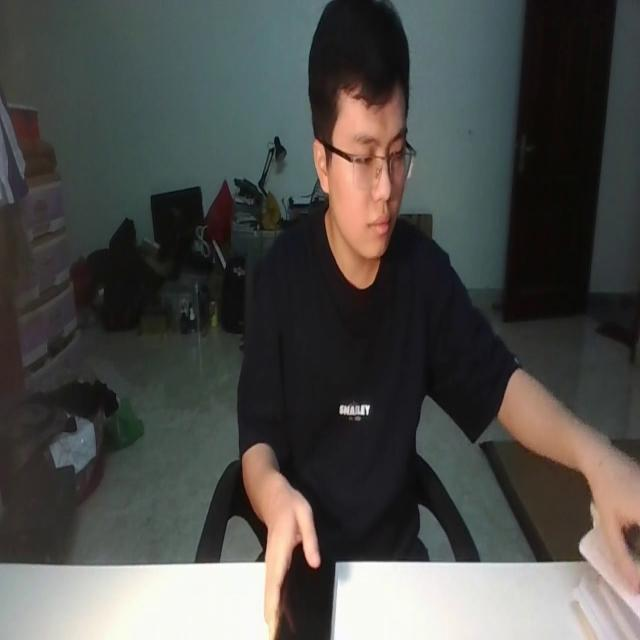phone: (276, 548, 336, 640)
student: (234, 0, 640, 597)
